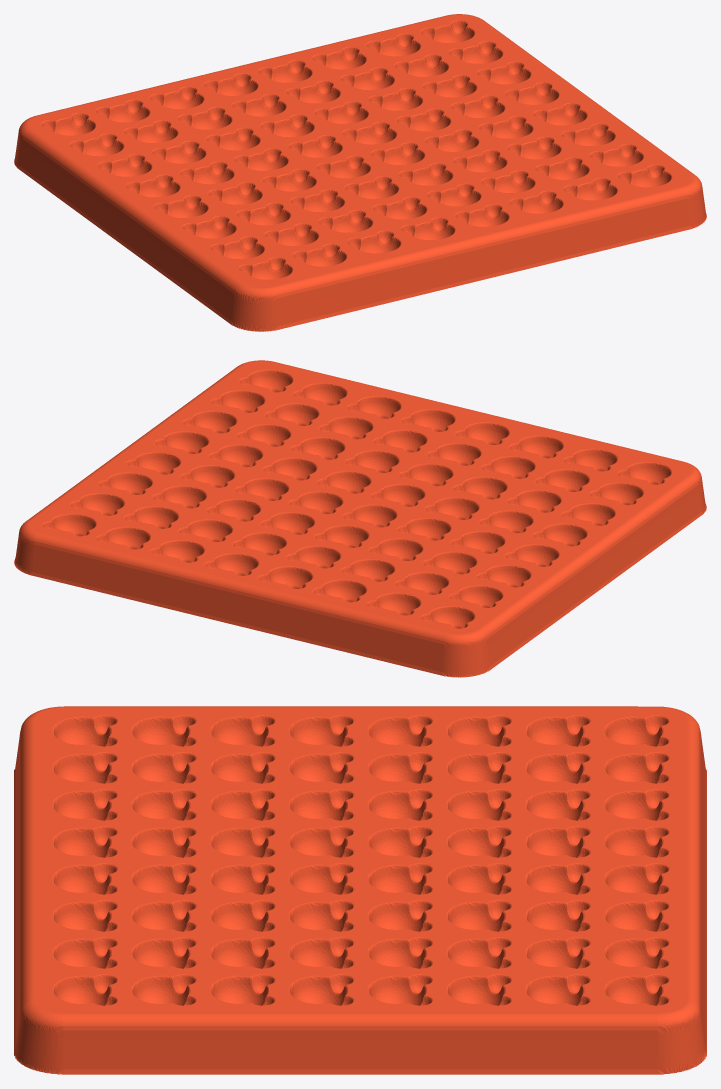
The model's file is mold.glb.
The picture shows the model from 3 angles, top to bottom: view 1: azimuth 30°, elevation 25°; view 2: azimuth 150°, elevation 25°; view 3: azimuth 270°, elevation 25°; orthographic projection. The views are drawn at different scales.
Parts seen in each view (by area): view 1: geometry_0; view 2: geometry_0; view 3: geometry_0.
Boxes of the visible parts, left/top/right/bottom form: geometry_0: left=14, top=14, right=706, bottom=331; geometry_0: left=14, top=360, right=706, bottom=677; geometry_0: left=14, top=706, right=706, bottom=1074.
Bounding box in the file's own units: 0.1373 × 0.0105 × 0.1247.
